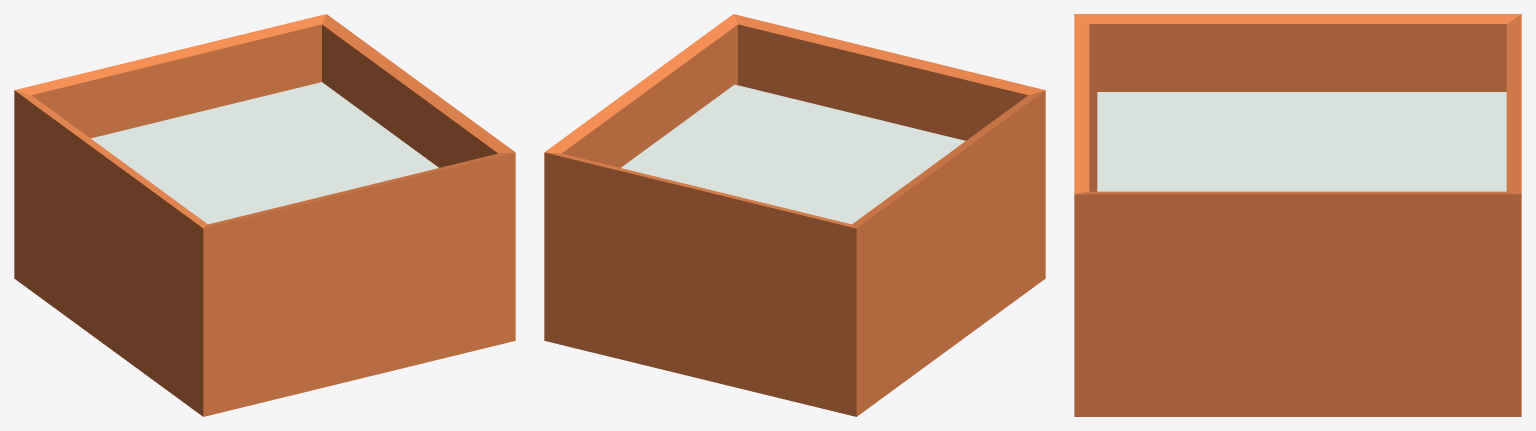
File: tofu.glb
The picture shows the model from 3 angles, left to right: view 1: azimuth 30°, elevation 25°; view 2: azimuth 150°, elevation 25°; view 3: azimuth 270°, elevation 25°; orthographic projection. The views are drawn at different scales.
Parts seen in each view (by area): view 1: Cube, Cube.001; view 2: Cube, Cube.001; view 3: Cube, Cube.001.
Boxes of the visible parts, box(x1,y1,x2,y2) form: Cube: box(14, 14, 515, 416); Cube.001: box(91, 82, 438, 224); Cube: box(544, 14, 1045, 416); Cube.001: box(621, 84, 965, 224); Cube: box(1074, 14, 1521, 416); Cube.001: box(1097, 92, 1506, 191).
Bounding box in the file's own units: 1.07 × 0.6178 × 1.12.
